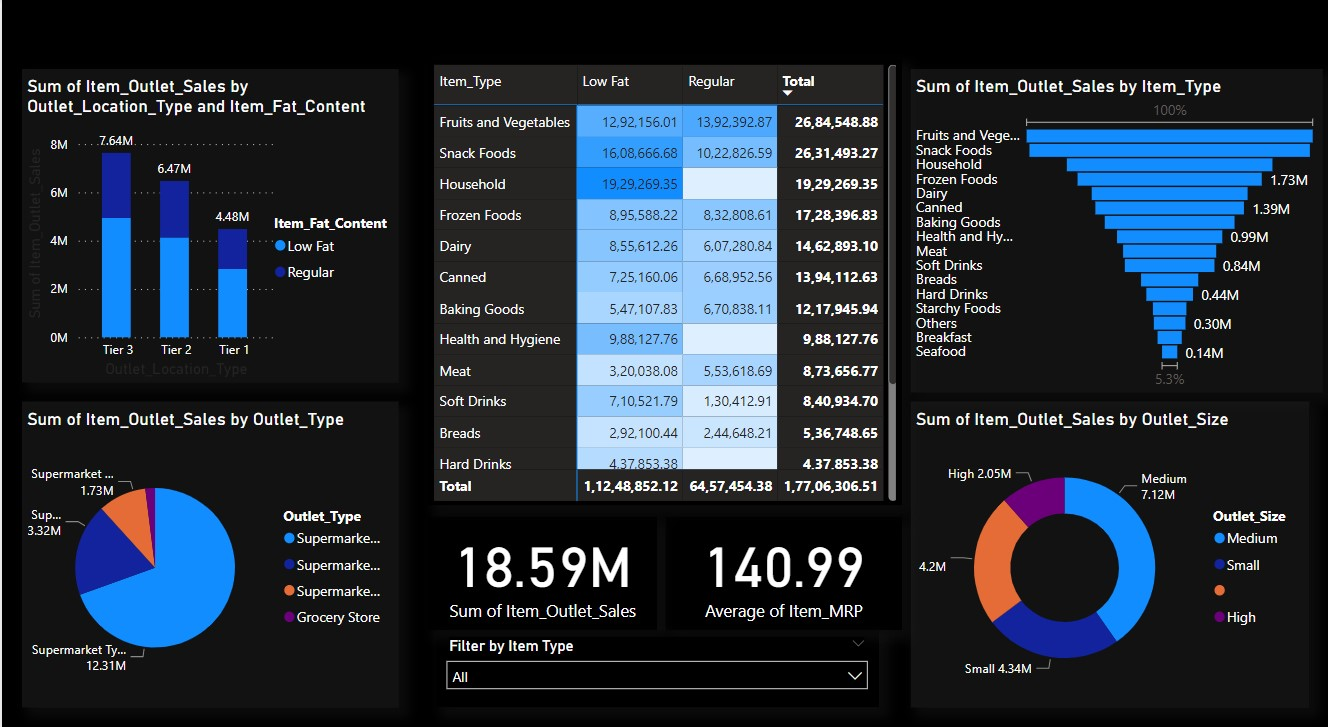

This screenshot's page, from the dashboard's own definition file:
{"tool":"powerbi","page":{"name":"Page 1","canvas":[1280,720],"ordinal":0},"visuals":[{"type":"columnChart","fields":{"Category":["Train (2).Outlet_Location_Type"],"Series":["Train (2).Item_Fat_Content"],"Y":["Sum(Train (2).Item_Outlet_Sales)"]},"box":[19.3,67.5,363,302.7],"z":0},{"type":"pieChart","fields":{"Category":["Train.Outlet_Type"],"Y":["Sum(Train.Item_Outlet_Sales)"]},"box":[19.3,388.3,363,295.5],"z":1000},{"type":"donutChart","fields":{"Y":["Sum(Train.Item_Outlet_Sales)"],"Category":["Train.Outlet_Size"]},"box":[876.8,388.3,384.7,295.5],"z":2000},{"type":"funnel","fields":{"Category":["Train.Item_Type"],"Y":["Sum(Train.Item_Outlet_Sales)"]},"box":[876.8,67.5,398,312.4],"z":3000},{"type":"pivotTable","fields":{"Columns":["Train.Item_Fat_Content"],"Rows":["Train.Item_Type"],"Values":["Sum(Train.Item_Outlet_Sales)"]},"box":[411.3,57.9,457.1,430.6],"z":4000},{"type":"card","fields":{"Values":["Sum(Train (2).Item_Outlet_Sales)"]},"box":[411.3,499.3,220.7,109.7],"z":5000},{"type":"card","fields":{"Values":["Avg(Train (2).Item_MRP)"]},"box":[640.4,499.3,227.9,109.7],"z":7000},{"type":"slicer","fields":{"Values":["Train (2).Item_Type"]},"box":[418.5,609,426.9,74.8],"z":7001}]}

Visuals, with their boxes in screenshot pixels (x1, y1, x2, y2), scaled from the page's 1280x720 canvas onto the 1328x727 screenshot:
columnChart - Train (2).Outlet_Location_Type x Train (2).Item_Fat_Content: (20, 68, 397, 374)
pieChart - Train.Outlet_Type x Sum(Train.Item_Outlet_Sales): (20, 392, 397, 690)
donutChart - Sum(Train.Item_Outlet_Sales) x Train.Outlet_Size: (910, 392, 1309, 690)
funnel - Train.Item_Type x Sum(Train.Item_Outlet_Sales): (910, 68, 1323, 384)
pivotTable - Train.Item_Fat_Content x Train.Item_Type: (427, 58, 901, 493)
card - Sum(Train (2).Item_Outlet_Sales): (427, 504, 656, 615)
card - Avg(Train (2).Item_MRP): (664, 504, 901, 615)
slicer - Train (2).Item_Type: (434, 615, 877, 690)
